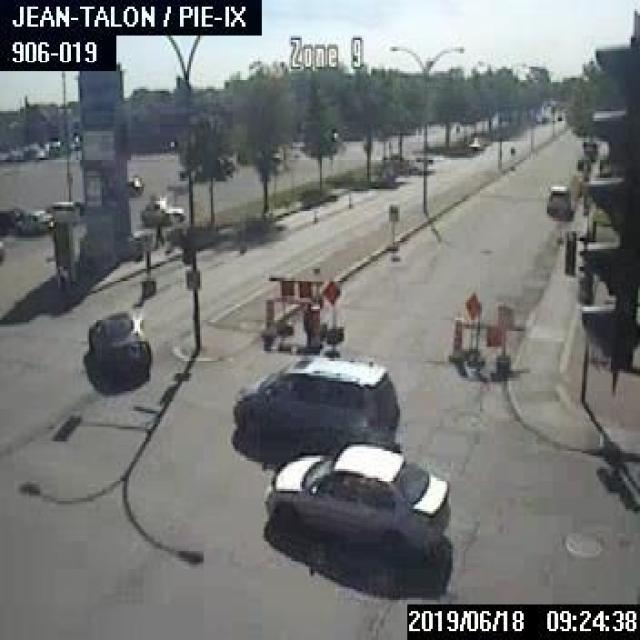construction: (267, 272, 342, 340), (460, 291, 521, 374), (446, 316, 463, 360), (262, 293, 276, 335)
vehicle: (263, 440, 448, 552), (231, 351, 399, 449), (88, 309, 149, 383), (140, 196, 184, 223), (12, 208, 51, 232), (544, 183, 568, 215), (46, 201, 76, 222), (466, 131, 488, 153), (580, 140, 597, 158), (126, 176, 142, 193), (575, 156, 589, 170)
